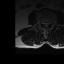CCS_stenosis: (45, 21, 46, 28)
LFS_normal: (48, 20, 50, 26)
LLS_normal: (46, 21, 48, 27)
RFS_normal: (41, 20, 43, 25)
RLS_normal: (43, 21, 45, 26)
